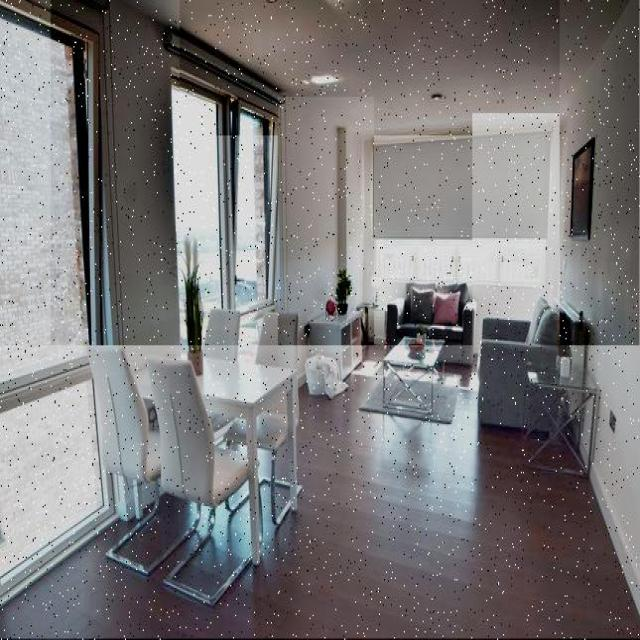Wall: (0, 347, 640, 639), (473, 114, 640, 606), (127, 1, 627, 135), (560, 0, 640, 606), (51, 0, 180, 369), (279, 97, 374, 371)
